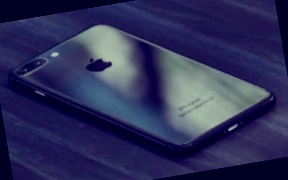iphone: (14, 17, 272, 163)
